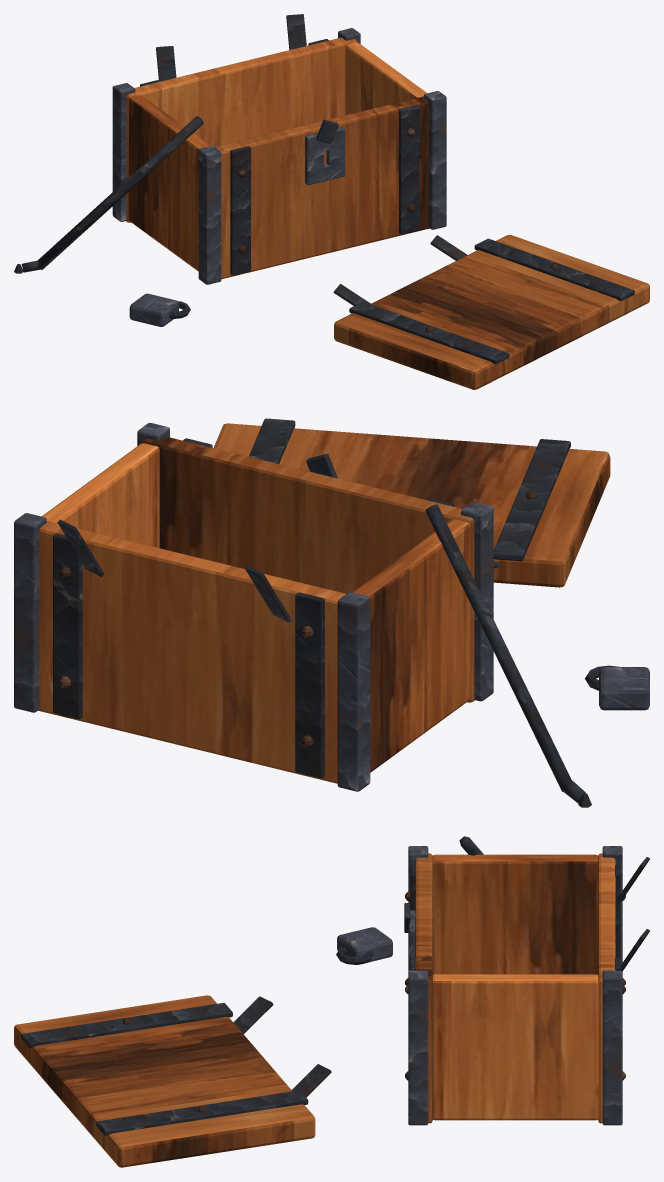
The model's file is mg_strongbox_forced.glb.
3 views of the same model, one above another, from view 1: azimuth 30°, elevation 25°; view 2: azimuth 150°, elevation 25°; view 3: azimuth 270°, elevation 25° (orthographic). The views are drawn at different scales.
Visible parts, largest first — view 1: model; view 2: model; view 3: model.
Boxes of the visible parts, <box> form: model: <box>14,14,649,389</box>; model: <box>14,418,649,807</box>; model: <box>14,836,649,1167</box>.
Bounding box in the file's own units: 1.16 × 0.3712 × 1.27.
7 materials, 6 textured.
